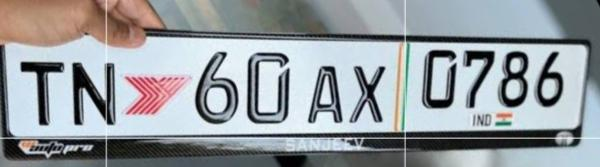0: (247, 48, 292, 130), (421, 42, 460, 111)
6: (194, 42, 242, 128), (531, 48, 570, 113)
7: (461, 42, 499, 114)
8: (496, 46, 531, 117)
A: (307, 60, 345, 128)
N: (66, 57, 122, 128)
T: (14, 54, 68, 131)
X: (347, 56, 389, 128)
